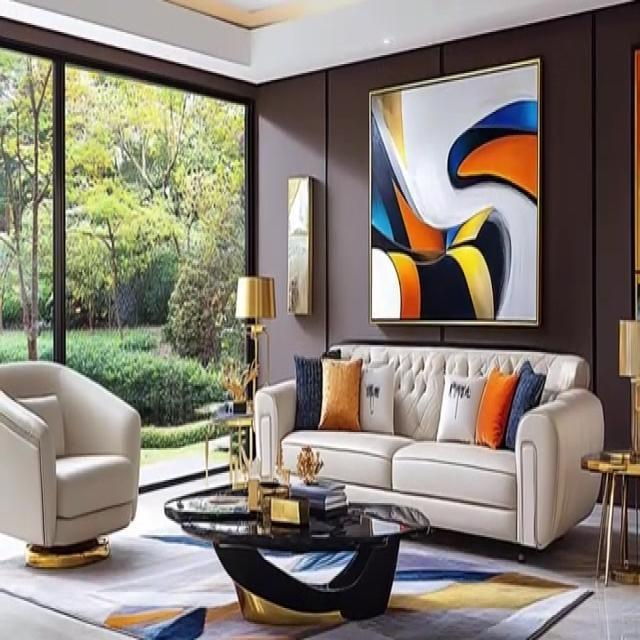obstacle: (253, 340, 605, 560), (169, 484, 429, 616), (0, 359, 141, 569), (580, 449, 639, 586)
